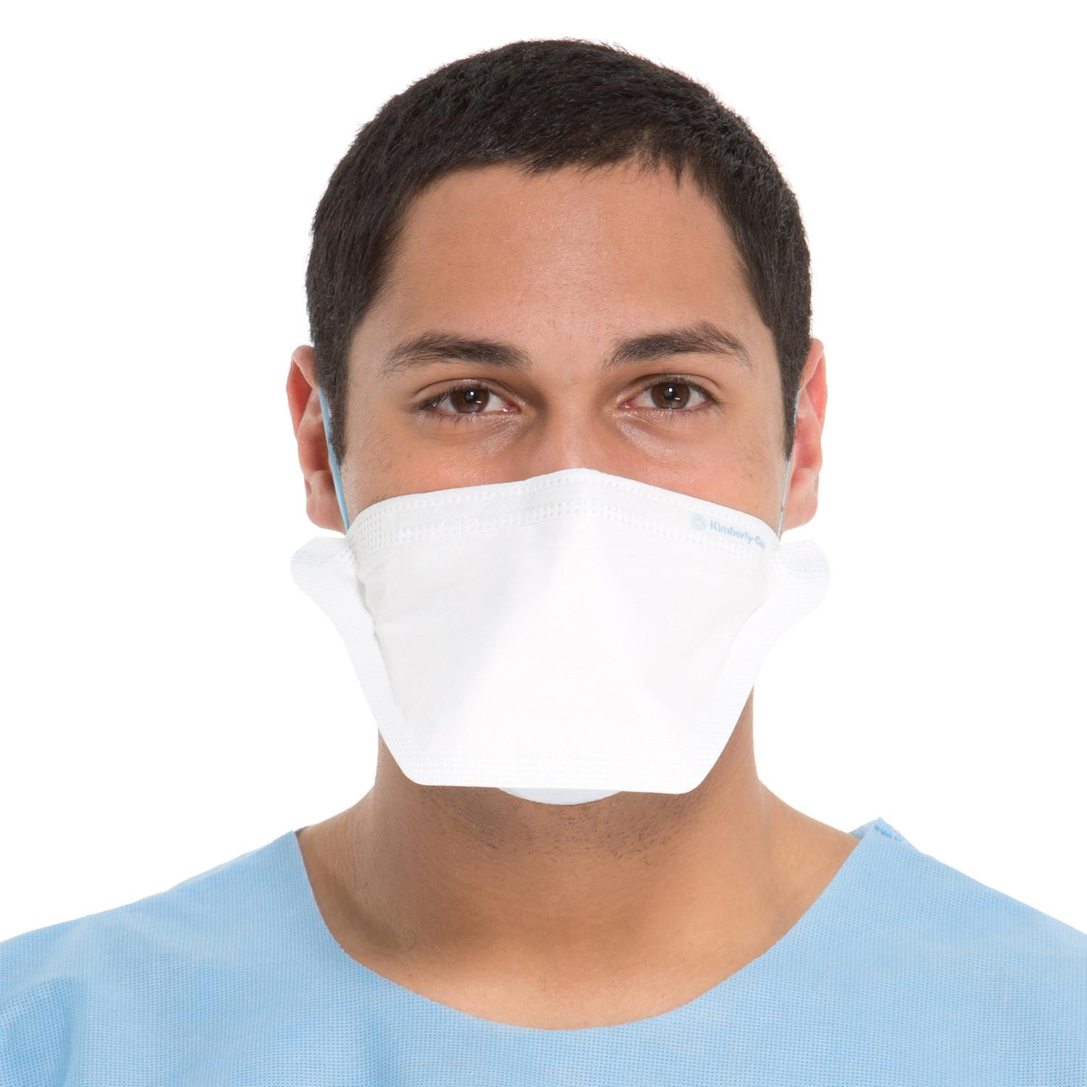Wearing Mask: (211, 0, 1056, 867)
